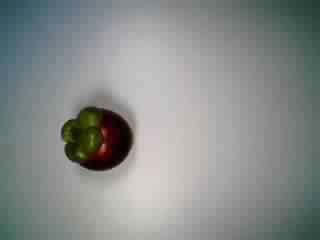mangosteen: (56, 98, 134, 174)
